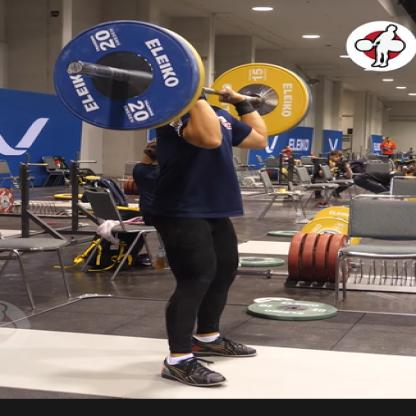Barbell: (50, 15, 214, 139)
